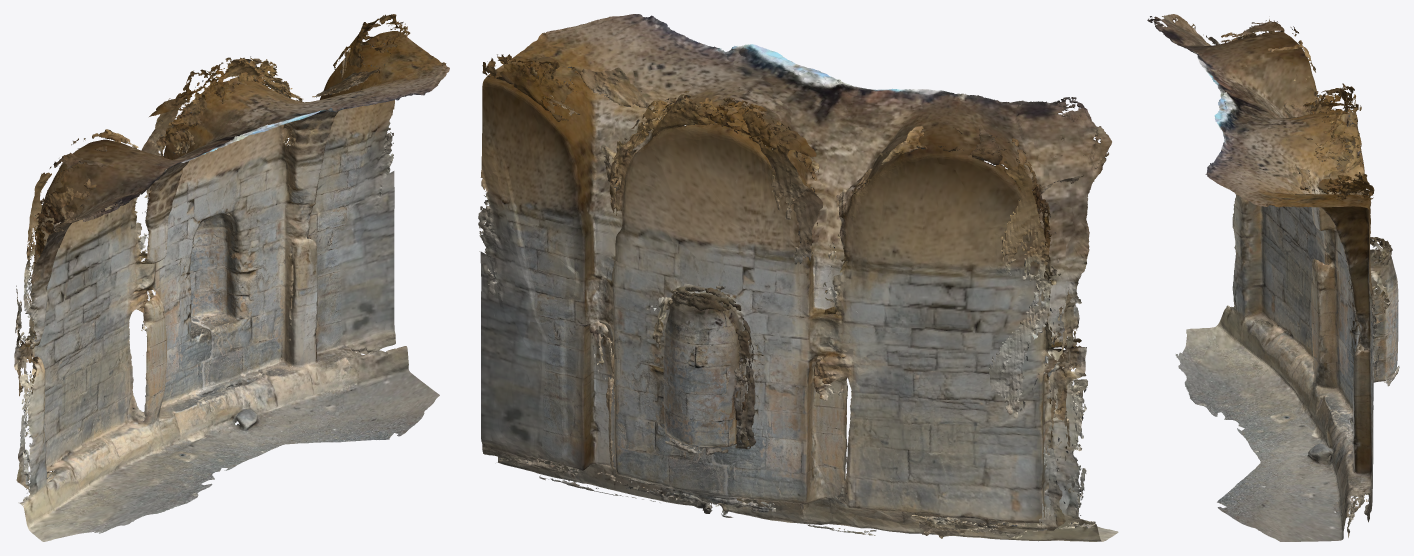
The model's file is niche-wall-water-temple-zaghouan.glb.
3 views of the same model, side by side, from view 1: azimuth 30°, elevation 25°; view 2: azimuth 150°, elevation 25°; view 3: azimuth 270°, elevation 25° (orthographic). The views are drawn at different scales.
Parts seen in each view (by area): view 1: Scaniverse; view 2: Scaniverse; view 3: Scaniverse.
Part boxes in pixels (x1,y1,x2,y2): Scaniverse: (14,14,449,541); Scaniverse: (478,14,1118,541); Scaniverse: (1147,14,1399,541).
Size of the model in its own units: 8.72 by 6.66 by 4.28.
1 material, 1 textured.
